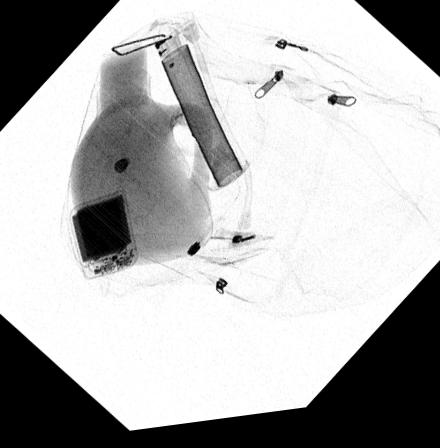Powerbank: (68, 192, 138, 282)
